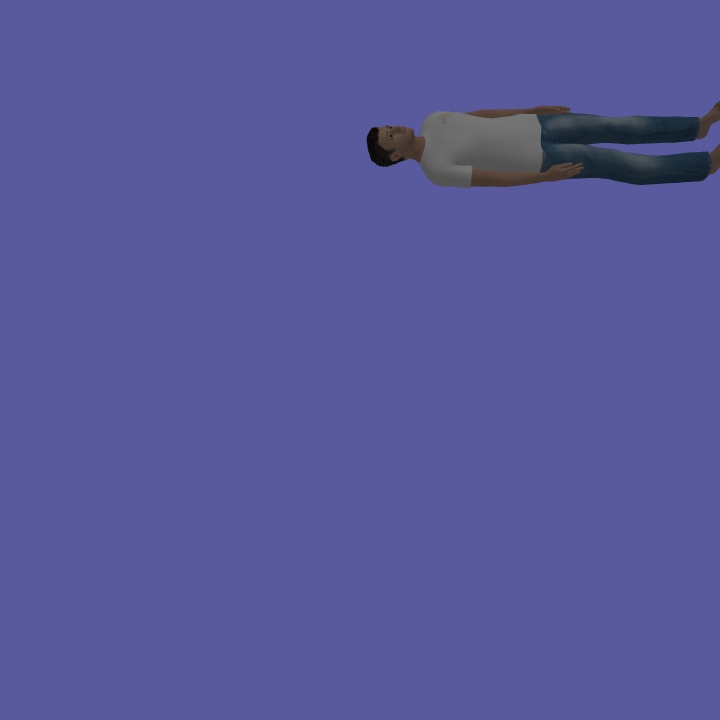victim: (363, 100, 720, 189)
